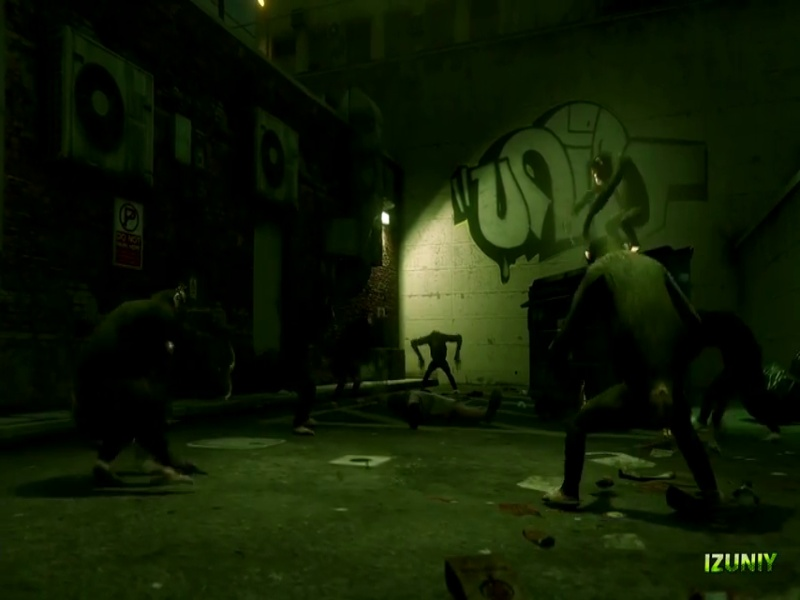licenseplate: (231, 76, 489, 277)
